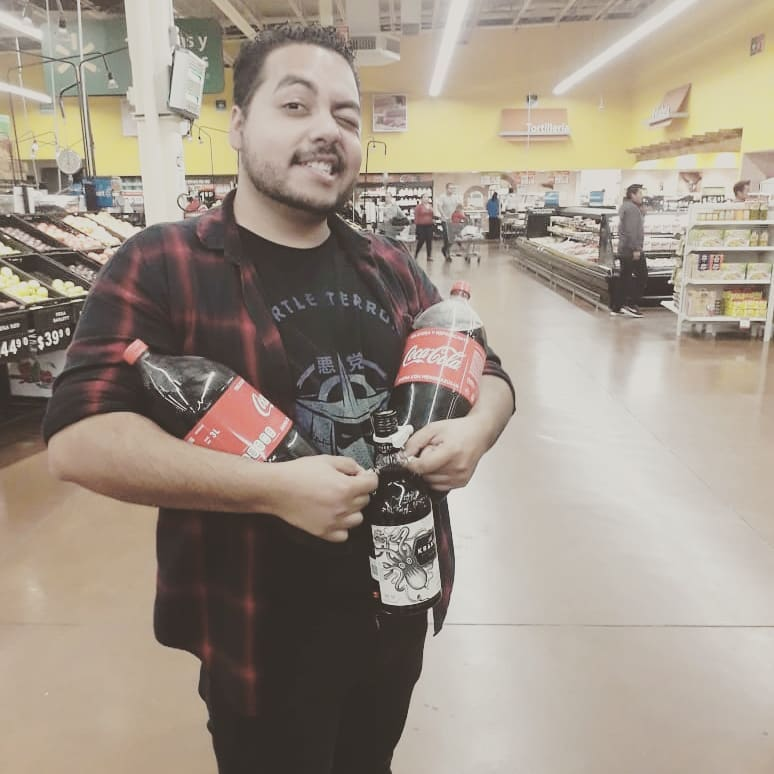Yoshi: (89, 18, 522, 590)
